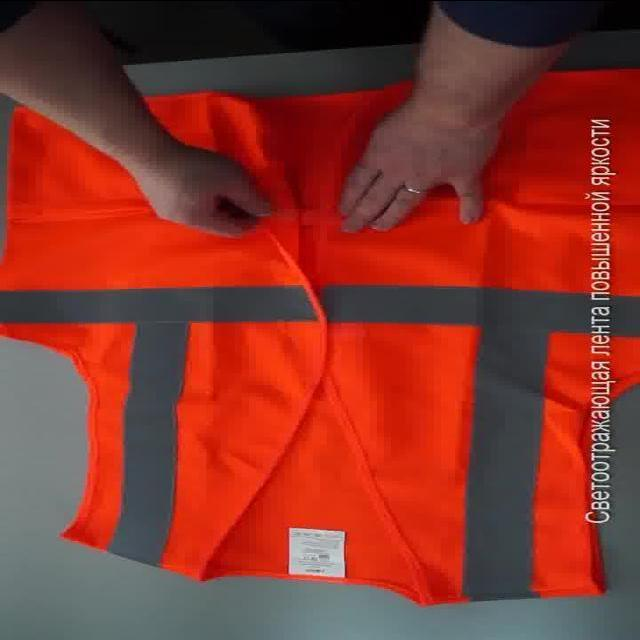vest: (0, 65, 640, 608)
